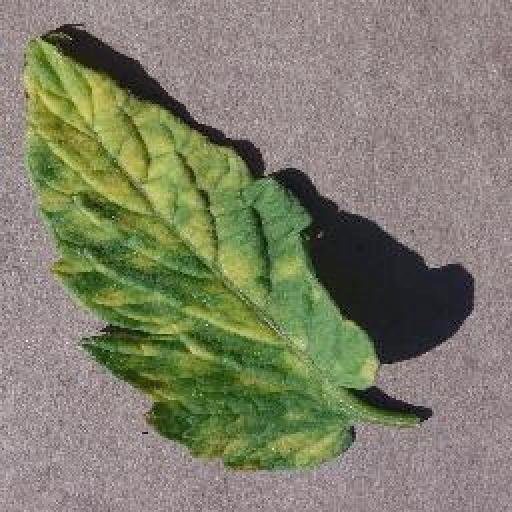disease_tomato: (26, 30, 382, 472)
